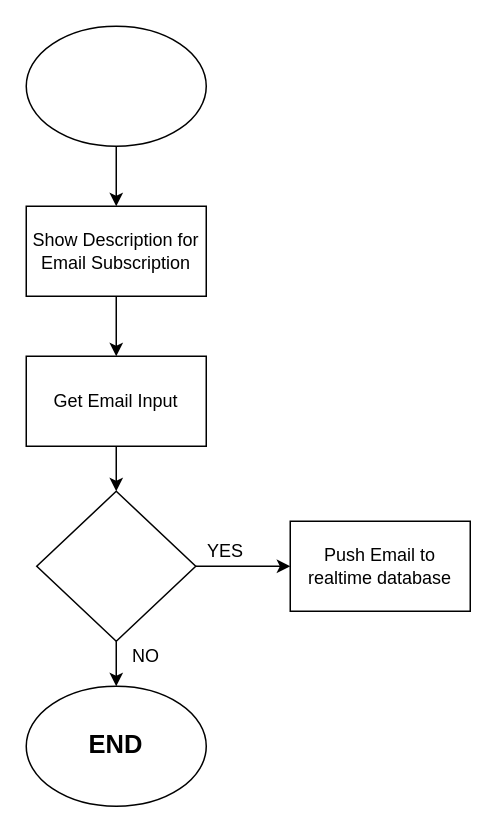
Image size: 497x833. Some labels were removed from this diagram. Here are the shapes that lost their labels. From the top down, the box of each, then its label:
(25, 25, 206, 146): Start
(35, 490, 196, 641): Subscribe ?
